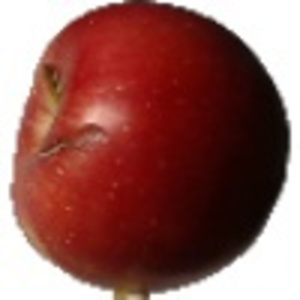maçã braeburn: (8, 1, 292, 292)
